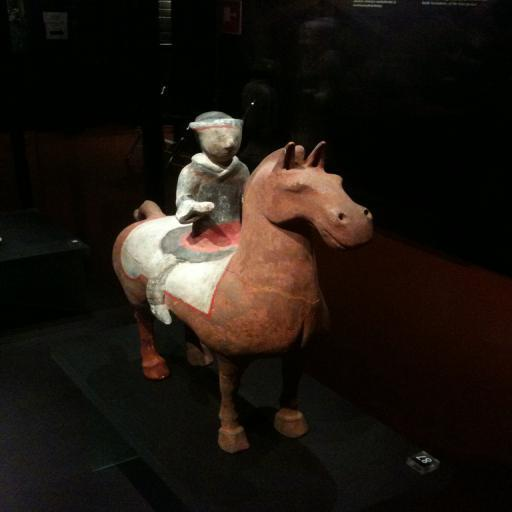horse: (112, 140, 376, 448)
